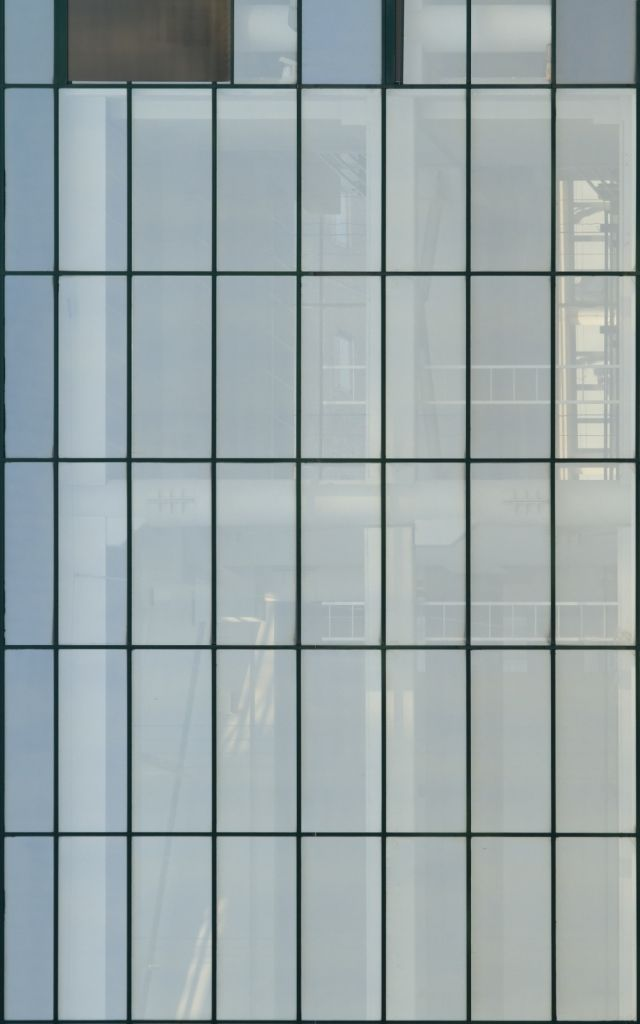glass_panel: (513, 19, 636, 271), (216, 650, 296, 1016), (386, 651, 466, 1017), (58, 650, 127, 1017), (502, 463, 636, 644), (126, 0, 212, 271), (301, 0, 381, 273), (461, 89, 560, 271), (131, 836, 212, 1021), (556, 837, 637, 1021), (555, 275, 636, 459), (131, 463, 212, 646), (216, 89, 297, 272), (470, 276, 551, 459), (385, 276, 466, 458), (470, 463, 551, 645), (471, 838, 551, 1022), (301, 837, 381, 1021), (555, 651, 636, 832), (132, 275, 212, 458), (216, 463, 296, 646), (216, 275, 296, 458), (386, 838, 466, 1021), (132, 650, 212, 832), (471, 650, 551, 832), (386, 90, 466, 272), (217, 837, 296, 1021), (301, 277, 381, 458), (301, 651, 381, 832), (386, 463, 466, 644), (301, 463, 381, 644), (68, 0, 231, 82), (58, 837, 127, 1021), (58, 275, 127, 458), (58, 462, 127, 645), (59, 89, 127, 271), (470, 0, 602, 84), (3, 837, 54, 1021), (4, 462, 54, 645), (4, 276, 54, 458), (4, 650, 54, 832), (5, 89, 54, 271), (555, 0, 637, 84), (301, 0, 382, 85), (398, 0, 467, 85), (234, 0, 297, 84), (4, 0, 54, 84)
